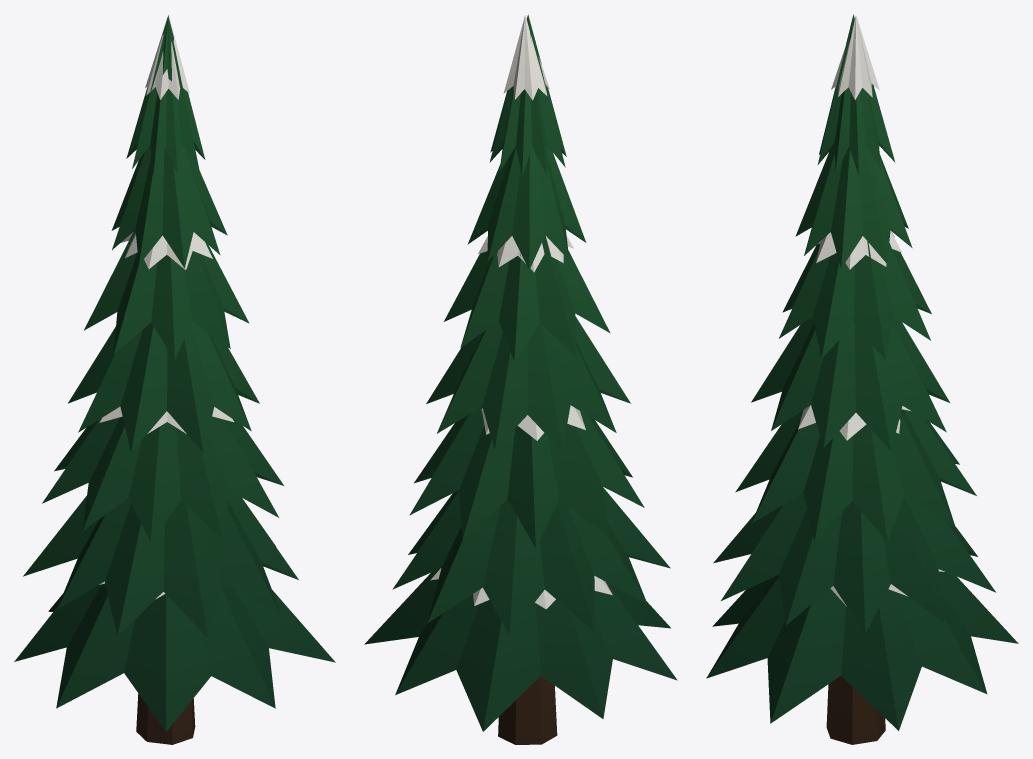
The model's file is tree_alpine_pine_03.fbx.
3 views of the same model, side by side, from view 1: azimuth 30°, elevation 25°; view 2: azimuth 150°, elevation 25°; view 3: azimuth 270°, elevation 25° (orthographic).
Visible parts, largest first — view 1: tree_alpine_pine_03_LOD0; view 2: tree_alpine_pine_03_LOD0; view 3: tree_alpine_pine_03_LOD0.
Boxes of the visible parts, x1,y1,x2,y2 form: tree_alpine_pine_03_LOD0: (14,14,335,744); tree_alpine_pine_03_LOD0: (364,14,677,744); tree_alpine_pine_03_LOD0: (706,14,1018,744).
Size of what is drawn, in the model's own units: 2.54 by 6.4 by 2.52.
1 material, 1 textured.
